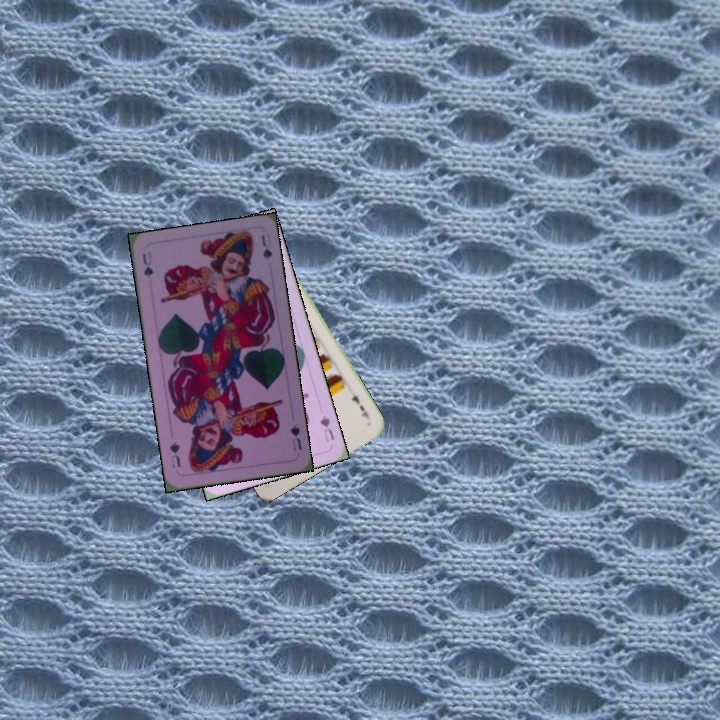E7: (347, 391, 372, 423)
GU: (316, 411, 337, 444), (138, 248, 156, 281), (286, 421, 304, 453)
